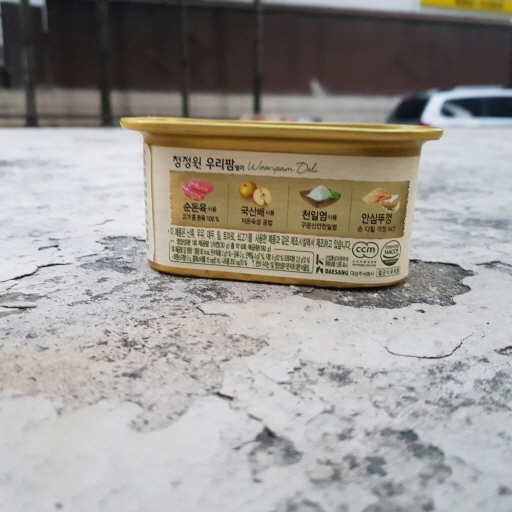Metal_2: (115, 109, 445, 286)
